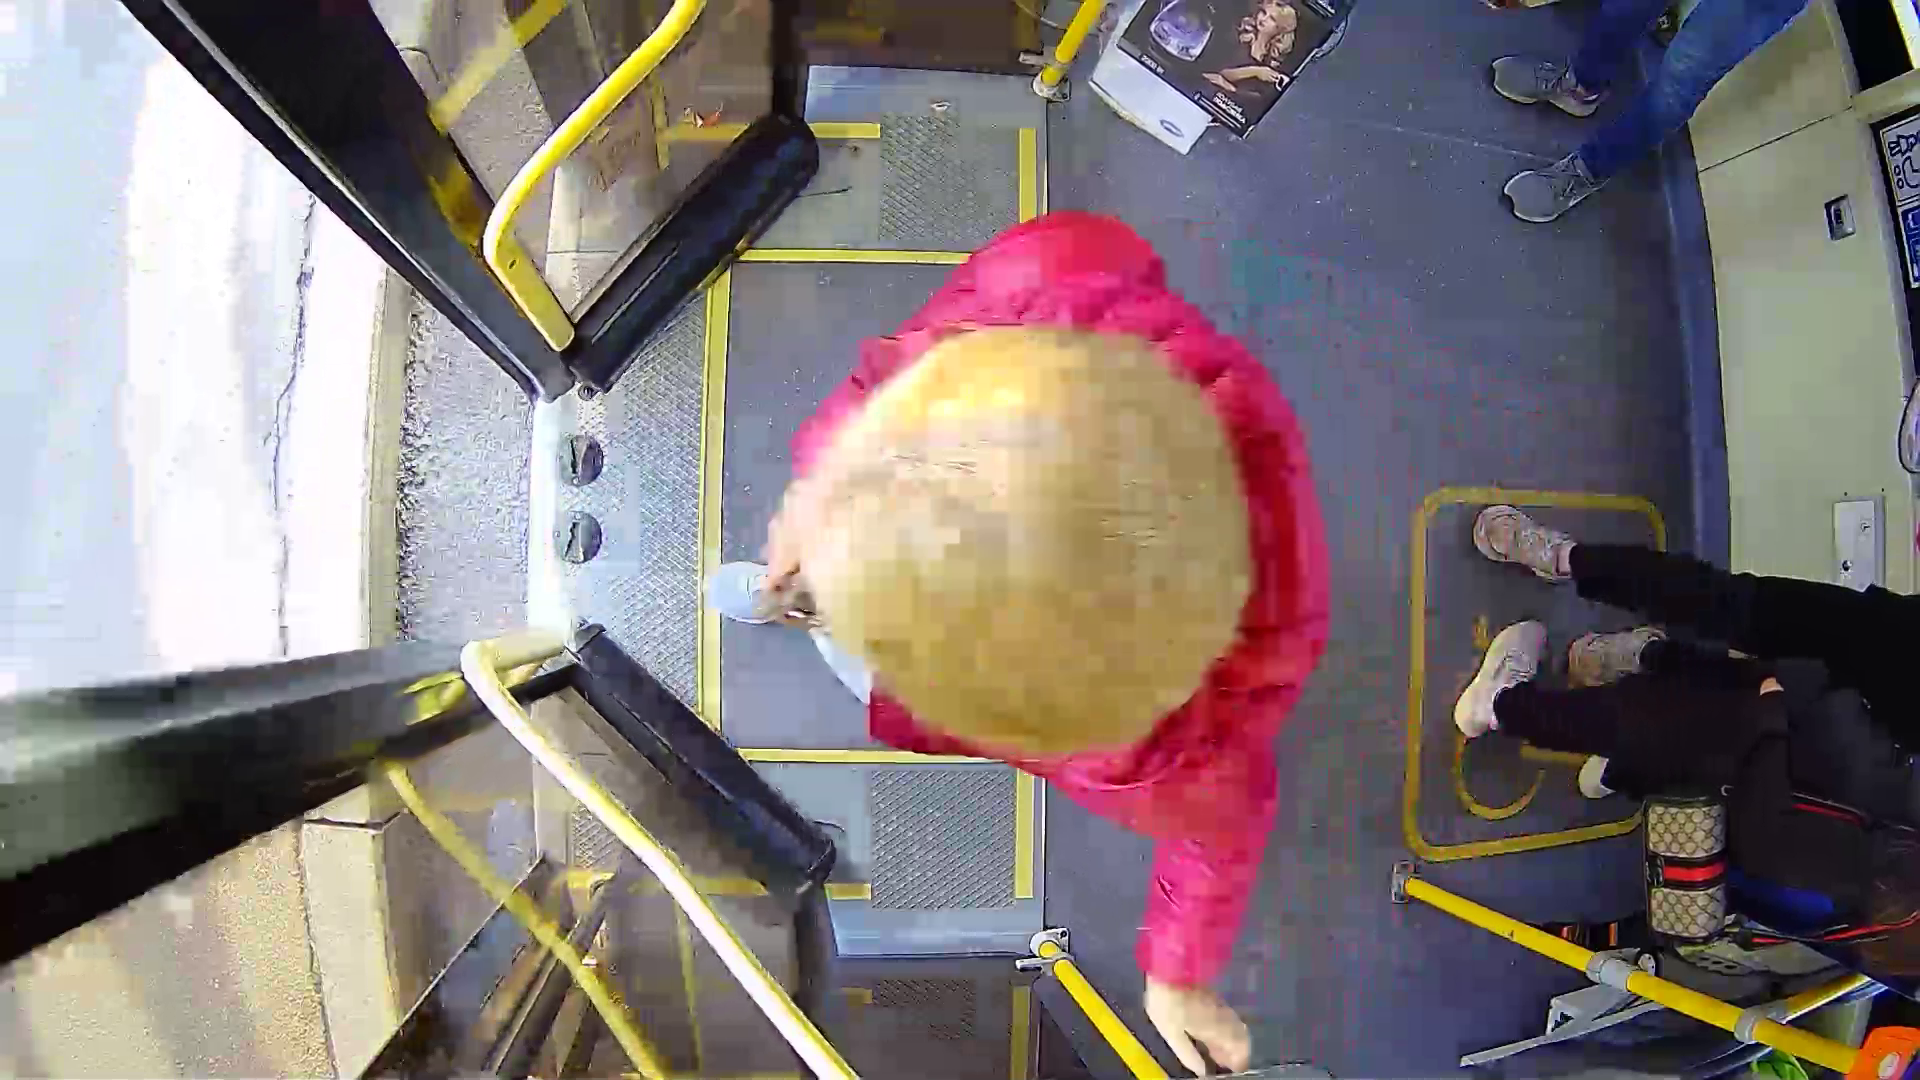person: (686, 210, 1434, 947)
